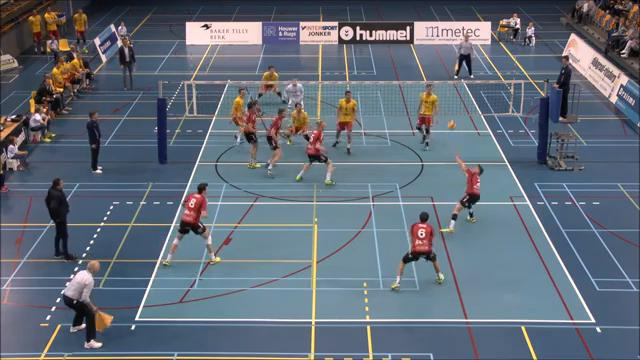difesa: (437, 150, 485, 233)
